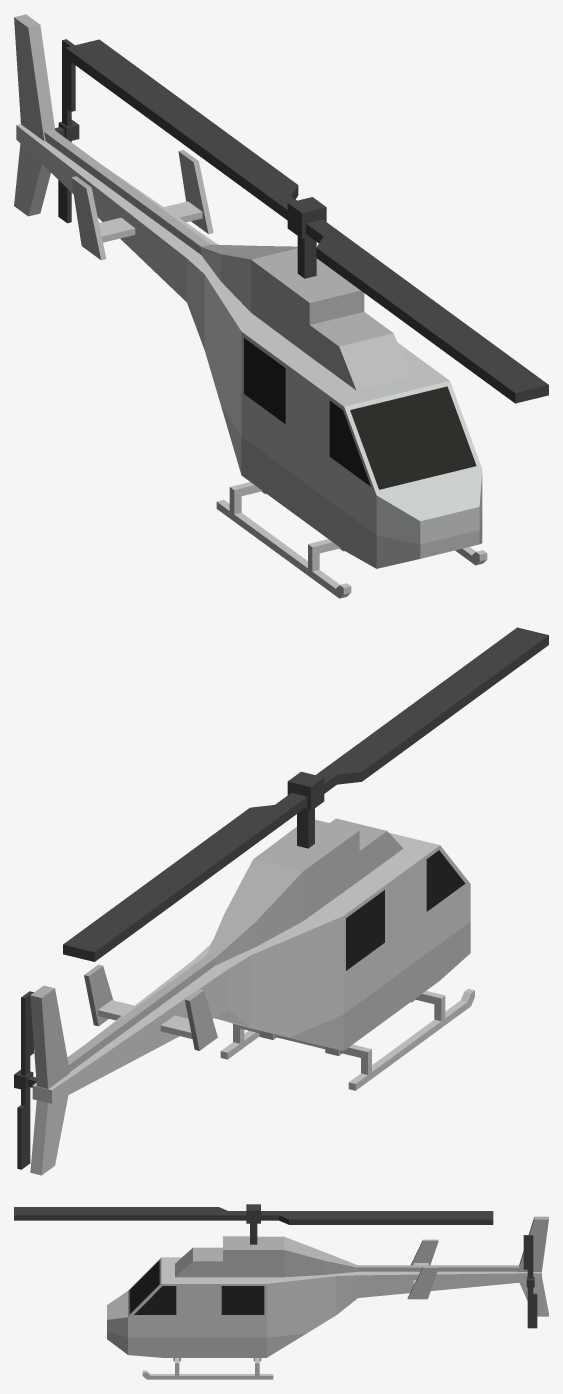
Rendered from Veh_Helicopter_01_White.obj.
The picture shows the model from 3 angles, top to bottom: view 1: azimuth 30°, elevation 25°; view 2: azimuth 150°, elevation 25°; view 3: azimuth 270°, elevation 25°; orthographic projection. The views are drawn at different scales.
Bounding box in the file's own units: 1.02 × 2.05 × 6.44.
